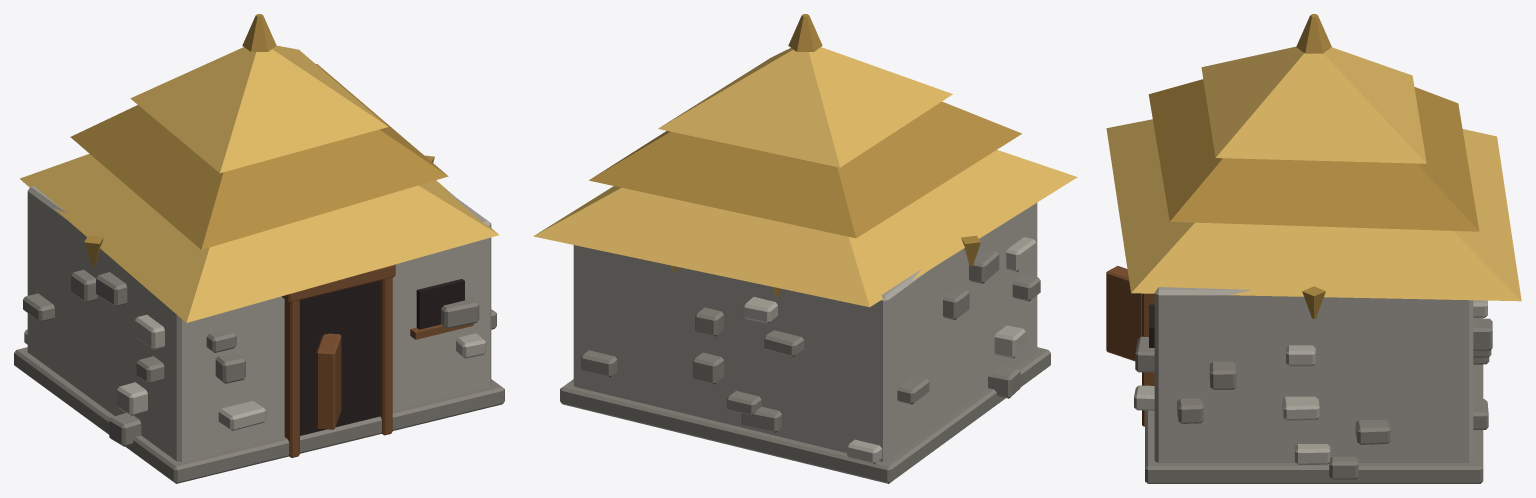
Rendered from isle_hut_v01.glb.
3 views of the same model, side by side, from view 1: azimuth 30°, elevation 25°; view 2: azimuth 150°, elevation 25°; view 3: azimuth 270°, elevation 25° (orthographic). The views are drawn at different scales.
Visible parts, largest first — view 1: hut; view 2: hut; view 3: hut.
Part boxes in pixels (x1=…): hut: x1=14, y1=14, x2=504, y2=483; hut: x1=533, y1=14, x2=1077, y2=483; hut: x1=1106, y1=14, x2=1521, y2=483.
Size of the model in its own units: 4.3 by 4.28 by 4.17.
